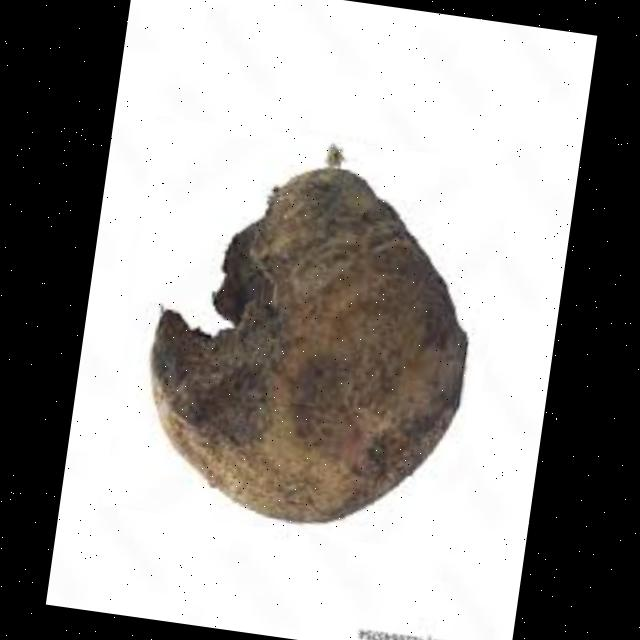Damaged potato: (101, 115, 512, 556)
